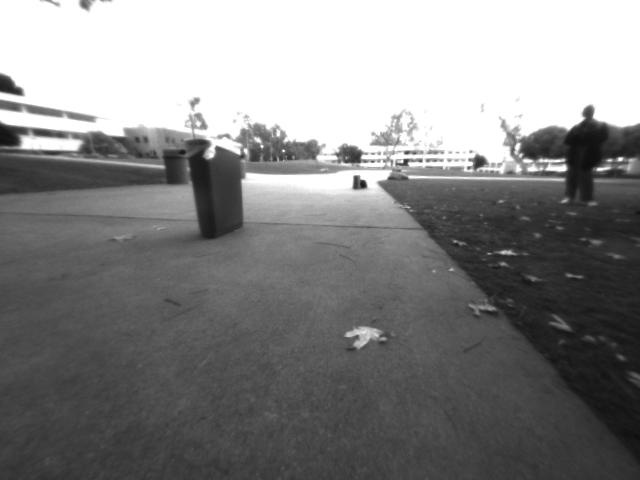trashcan_open: (183, 134, 247, 239)
